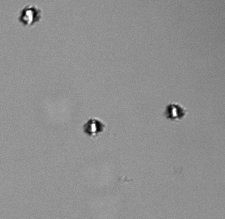Living Cell: (18, 5, 44, 26), (82, 115, 104, 136), (165, 103, 184, 120)
